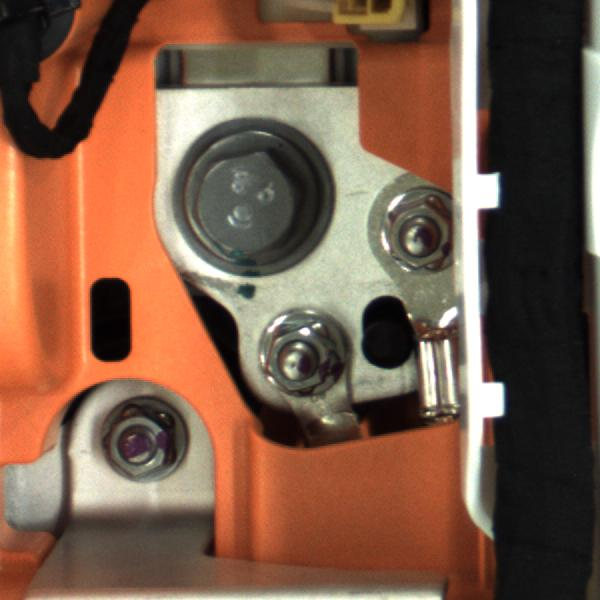nut_b: (156, 114, 332, 285)
screw_s: (251, 314, 352, 401), (369, 189, 456, 275), (99, 404, 178, 481)
